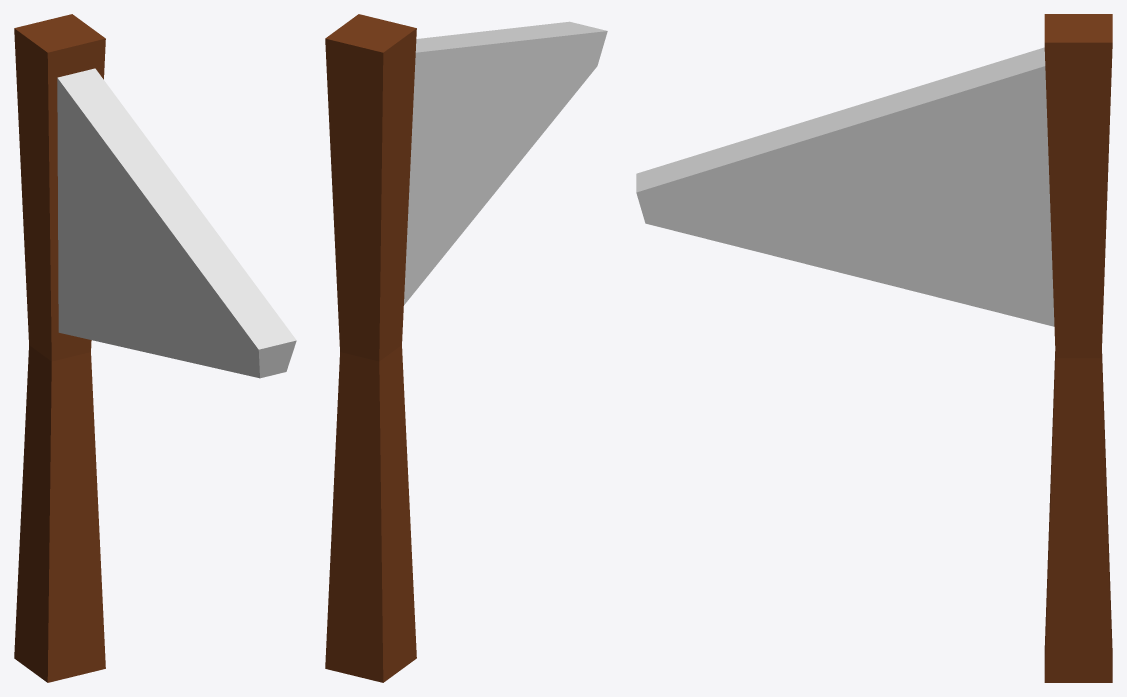
Rendered from Bandeira.fbx.
3 views of the same model, side by side, from view 1: azimuth 30°, elevation 25°; view 2: azimuth 150°, elevation 25°; view 3: azimuth 270°, elevation 25° (orthographic).
Visible parts, largest first — view 1: Bandeirinha; view 2: Bandeirinha; view 3: Bandeirinha.
Boxes of the visible parts, x1,y1,x2,y2 form: Bandeirinha: (14, 14, 296, 682); Bandeirinha: (325, 14, 607, 682); Bandeirinha: (636, 14, 1112, 682).
Size of the model in its own units: 11.59 by 120 by 80.94.
